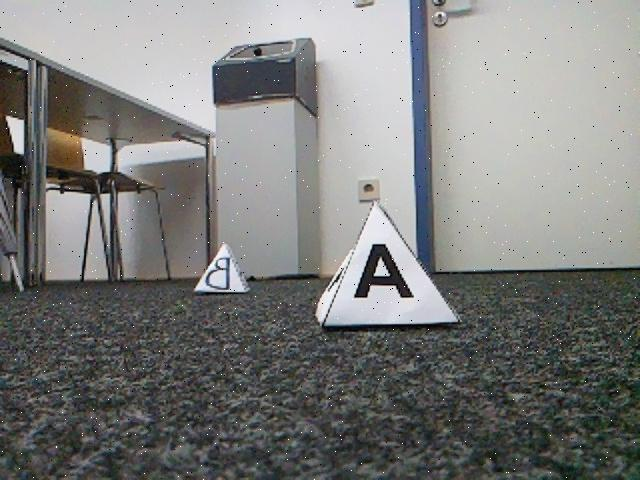A: (315, 200, 457, 331)
B: (193, 245, 250, 297)
